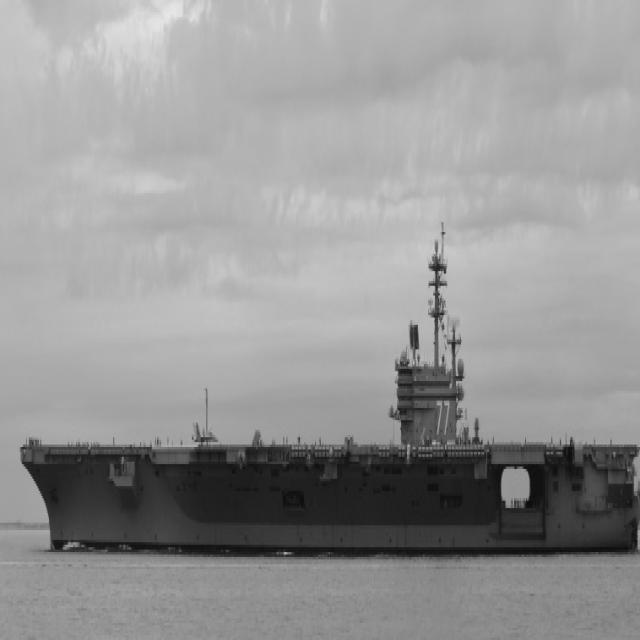Portanaves: (18, 214, 640, 561)
